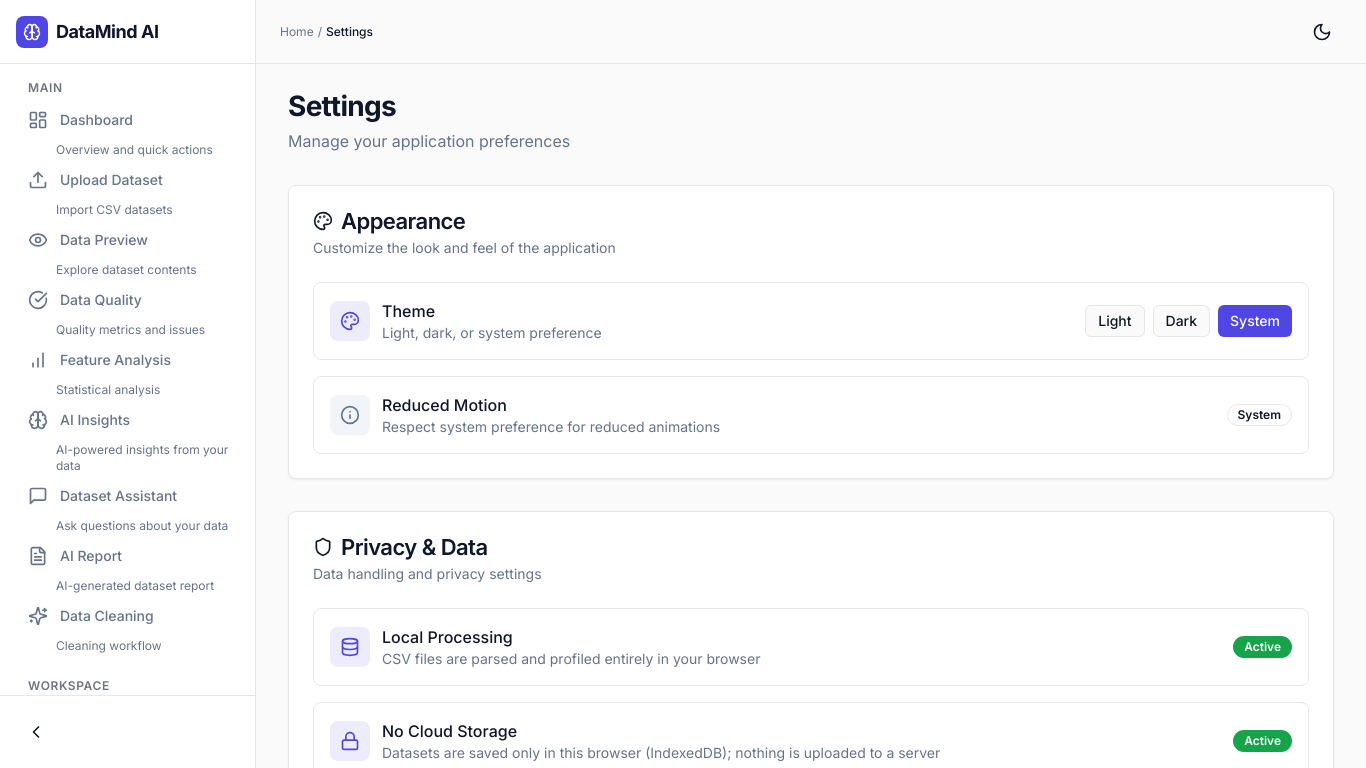
Theme › settings buttons set light, dark and system
Click the button "Dark".
click(1181, 321)  # box [1152,305,1210,337]
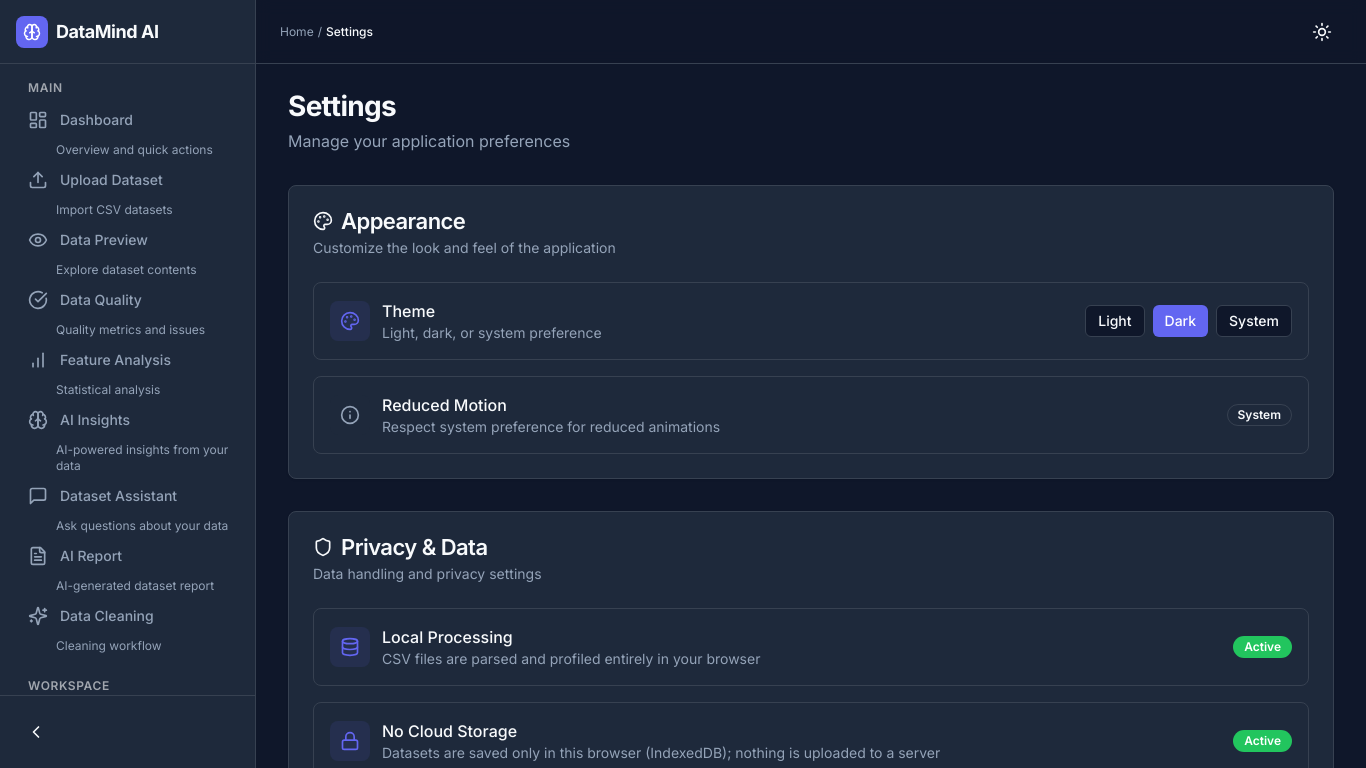
Expected: the button "Dark" is pressed, [1152,305,1208,337]
Click the button "Light".
click(1115, 321)  # box [1085,305,1144,337]
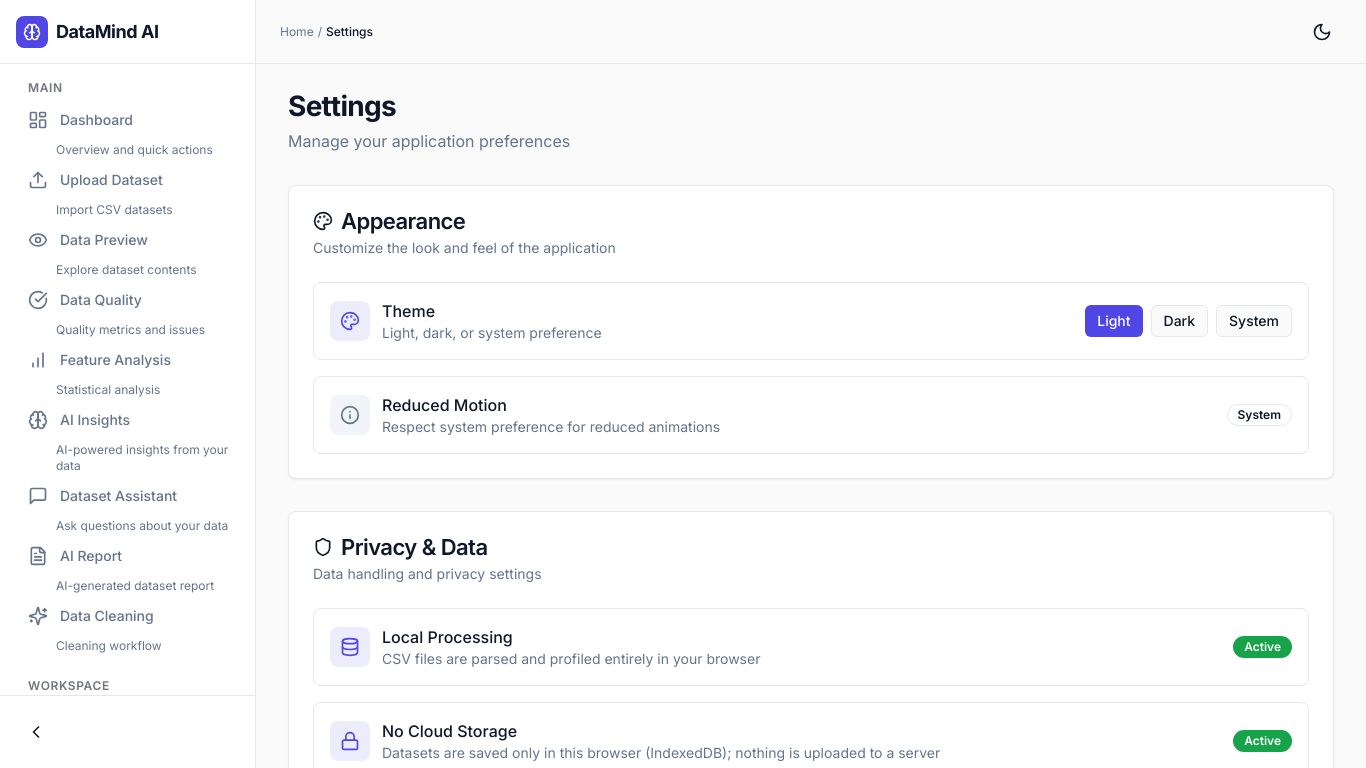
Expected: the button "Light" is pressed, [1085,305,1142,337]
Click the button "System".
click(1254, 321)  # box [1216,305,1292,337]
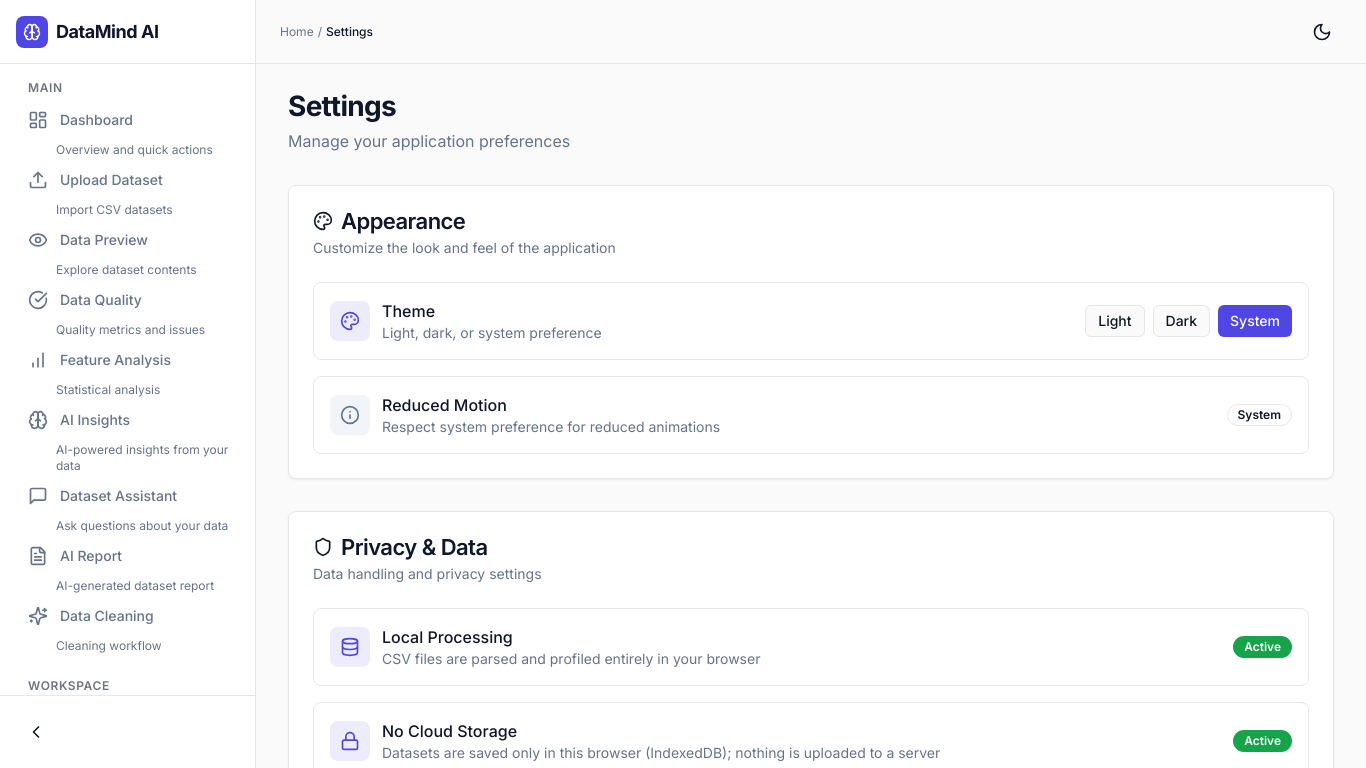
Expected: the button "System" is pressed, [1218,305,1292,337]
